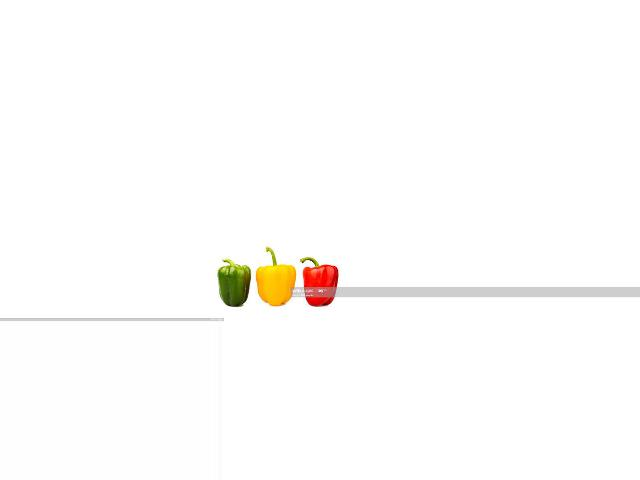bell_pepper: (213, 252, 249, 310)
